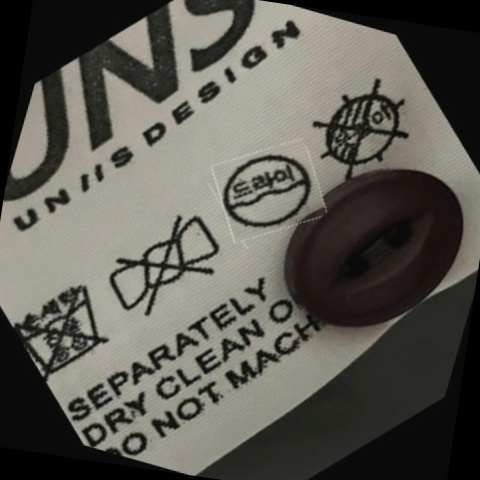DN_dry: (303, 71, 420, 189)
DN_wring: (98, 202, 230, 333)
dry_clean: (215, 138, 321, 246)
hand_wash: (11, 266, 122, 385)
